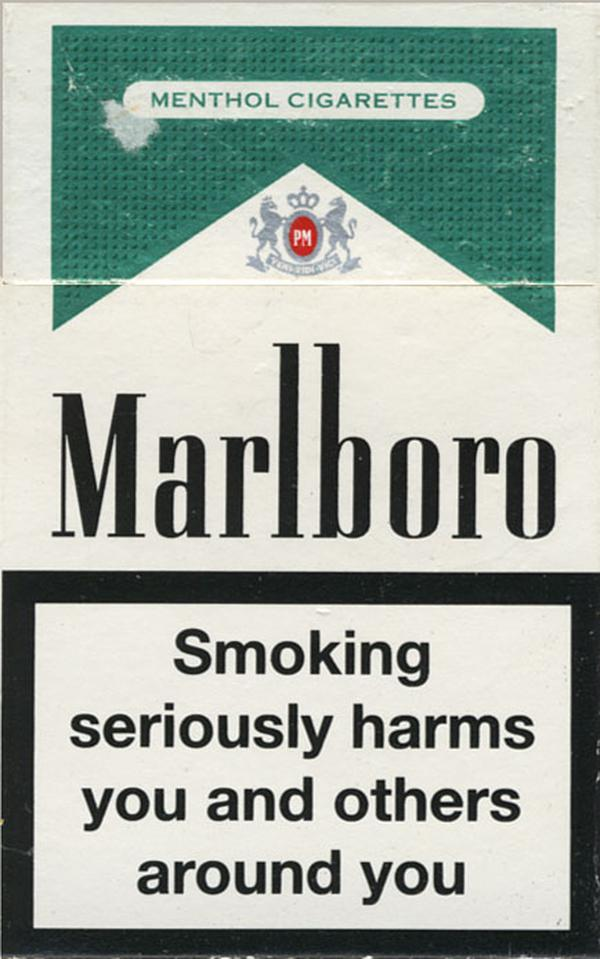marlboro_mentol: (1, 5, 600, 955)
